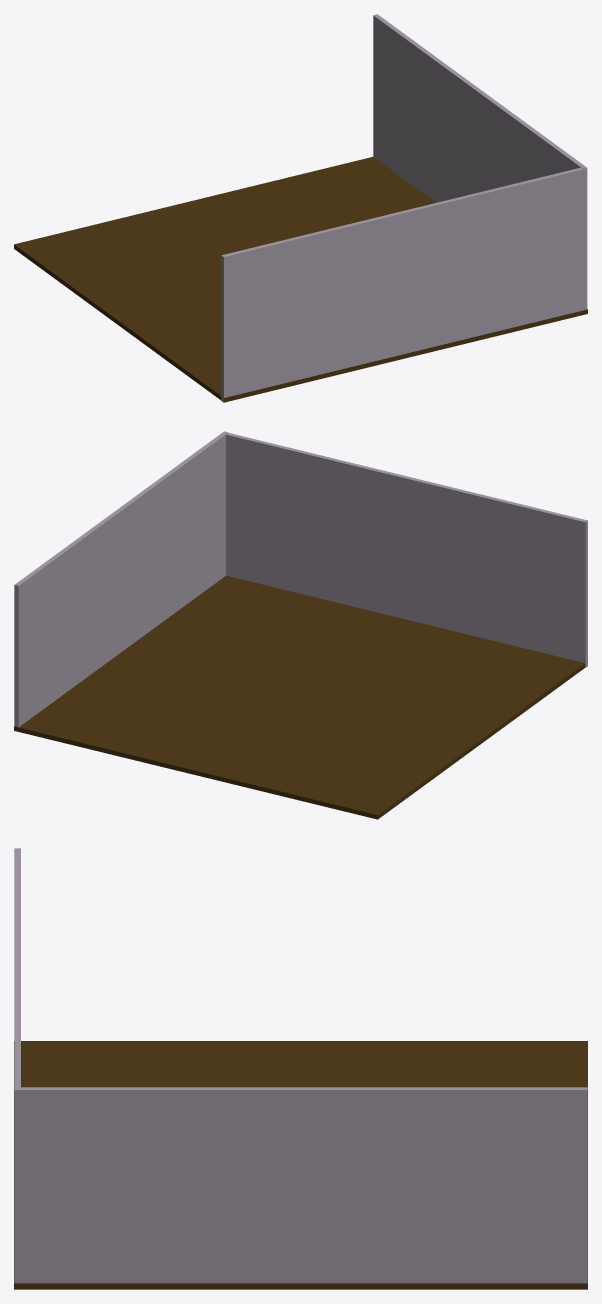
The model's file is Floor_Wall.fbx.
The picture shows the model from 3 angles, top to bottom: view 1: azimuth 30°, elevation 25°; view 2: azimuth 150°, elevation 25°; view 3: azimuth 270°, elevation 25°; orthographic projection. The views are drawn at different scales.
Parts seen in each view (by area): view 1: Cube.001, Floor, SideWall; view 2: Floor, Cube.001, SideWall; view 3: SideWall, Floor, Cube.001.
Part boxes in pixels (left/top/right/bottom): Cube.001: left=221, top=167, right=587, bottom=402; Floor: left=14, top=157, right=587, bottom=402; SideWall: left=373, top=14, right=586, bottom=202; Floor: left=14, top=575, right=585, bottom=819; Cube.001: left=226, top=433, right=587, bottom=667; SideWall: left=14, top=431, right=228, bottom=727; SideWall: left=14, top=1087, right=587, bottom=1283; Floor: left=14, top=1041, right=587, bottom=1289; Cube.001: left=14, top=848, right=20, bottom=1282.
Size of the model in its own units: 1570 by 602 by 1569.
